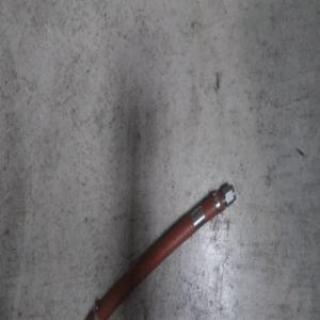Hosetrack_idkeyframe: (78, 179, 235, 319)
